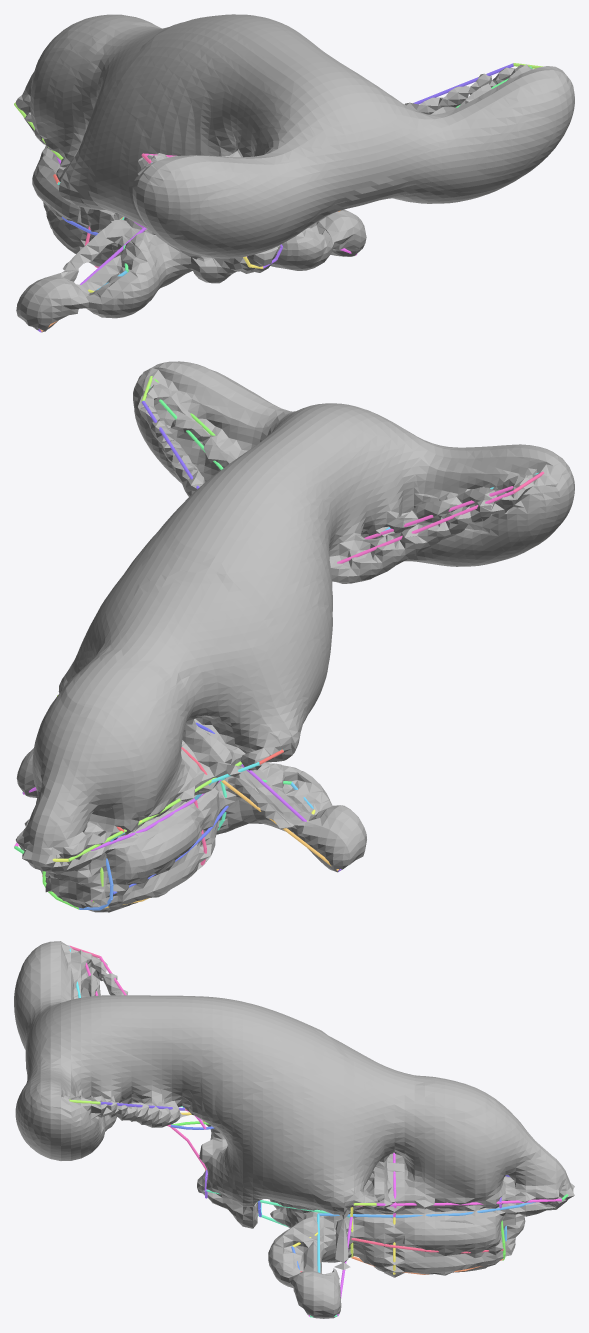
File: ils_spacecraft_29.gltf
3 views of the same model, one above another, from view 1: azimuth 30°, elevation 25°; view 2: azimuth 150°, elevation 25°; view 3: azimuth 270°, elevation 25° (orthographic). The views are drawn at different scales.
Bounding box in the file's own units: 0.5971 × 0.4357 × 0.8318.
